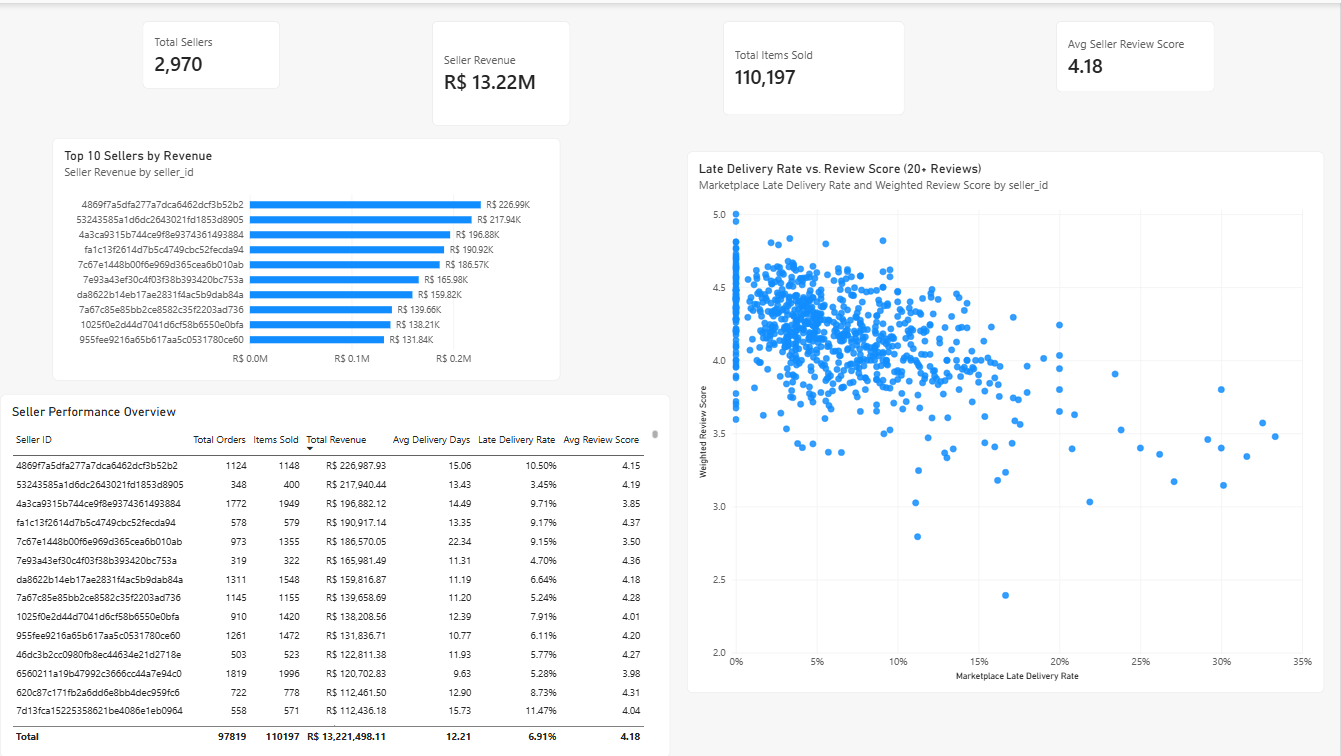

The page's visual inventory and layout, read from the dashboard file:
{"tool":"powerbi","page":{"name":"Seller Performance","canvas":[1920,1080],"ordinal":2},"visuals":[{"type":"tableEx","title":"Seller Performance Overview","fields":{"Values":["powerbi_seller_performance.seller_id","Sum(powerbi_seller_performance.seller_order_count)","Sum(powerbi_seller_performance.item_count)","Sum(powerbi_seller_performance.item_revenue)","Avg(powerbi_seller_performance.average_delivery_days)","Avg(powerbi_seller_performance.late_delivery_rate)","Avg(powerbi_seller_performance.average_review_score)"]},"box":[0,560,960,520],"z":0},{"type":"cardVisual","fields":{"Data":["customer_segments.Total Sellers"]},"box":[205,25,197.5,97.5],"z":1000},{"type":"cardVisual","fields":{"Data":["customer_segments.Seller Revenue"]},"box":[619.8,25,198,150],"z":2000},{"type":"cardVisual","fields":{"Data":["customer_segments.Total Items Sold"]},"box":[1035.2,25,260,135],"z":3000},{"type":"cardVisual","fields":{"Data":["customer_segments.Avg Seller Review Score"]},"box":[1512.5,25,227.5,102.5],"z":4000},{"type":"clusteredBarChart","title":"Top 10 Sellers by Revenue","fields":{"Category":["powerbi_seller_performance.seller_id"],"Y":["customer_segments.Seller Revenue"]},"box":[75,192.5,727.5,347.5],"z":5000},{"type":"scatterChart","title":"Late Delivery Rate vs. Review Score (20+ Reviews)","fields":{"Category":["powerbi_seller_performance.seller_id"],"X":["customer_segments.Marketplace Late Delivery Rate"],"Y":["customer_segments.Weighted Review Score"]},"box":[985,212.5,912.5,775],"z":6000}]}

Visuals, with their boxes in screenshot pixels (x1, y1, x2, y2), scaled from the page's 1920x1080 canvas onto the 1341x756 screenshot:
"Seller Performance Overview" tableEx: [x1=0, y1=392, x2=670, y2=755]
cardVisual - customer_segments.Total Sellers: [x1=143, y1=18, x2=281, y2=86]
cardVisual - customer_segments.Seller Revenue: [x1=433, y1=18, x2=571, y2=122]
cardVisual - customer_segments.Total Items Sold: [x1=723, y1=18, x2=905, y2=112]
cardVisual - customer_segments.Avg Seller Review Score: [x1=1056, y1=18, x2=1215, y2=89]
"Top 10 Sellers by Revenue" clusteredBarChart: [x1=52, y1=135, x2=560, y2=378]
"Late Delivery Rate vs. Review Score (20+ Reviews)" scatterChart: [x1=688, y1=149, x2=1325, y2=691]
